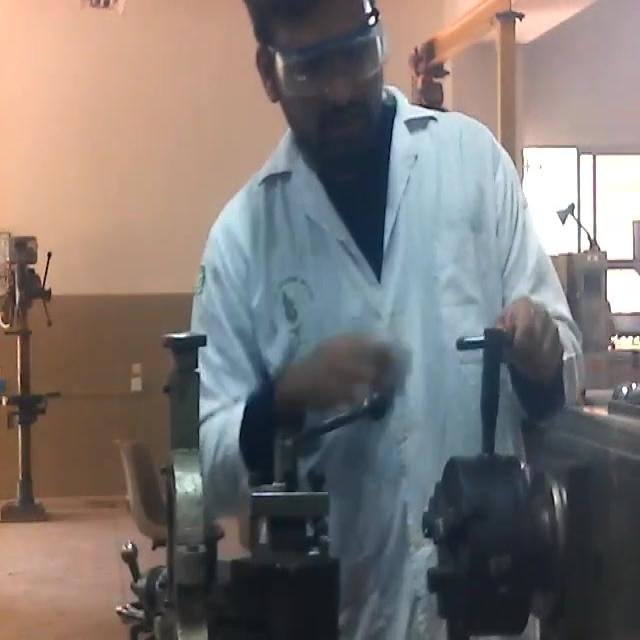googles: (270, 15, 390, 88)
labcoat: (186, 84, 586, 640)
